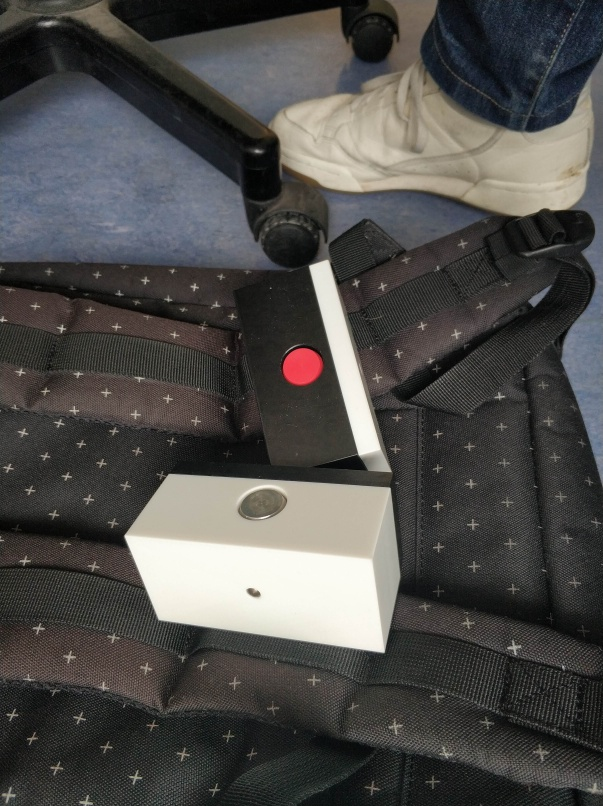black+white+silver: (126, 450, 404, 656)
white+black+red: (232, 255, 393, 488)
